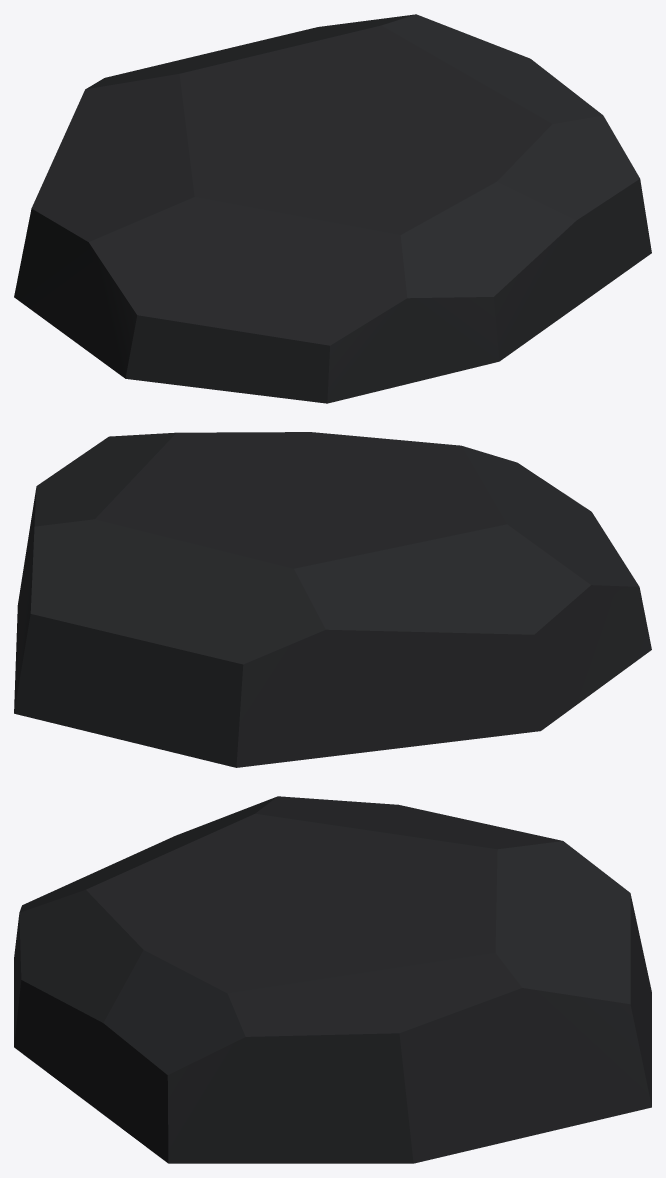
Rendered from Rock_4.fbx.
3 renders of one model, top to bottom at view 1: azimuth 30°, elevation 25°; view 2: azimuth 150°, elevation 25°; view 3: azimuth 270°, elevation 25°, orthographic. The views are drawn at different scales.
Parts seen in each view (by area): view 1: Rock_4; view 2: Rock_4; view 3: Rock_4.
Boxes of the visible parts, x1,y1,x2,y2 form: Rock_4: [14, 14, 651, 403]; Rock_4: [14, 432, 651, 767]; Rock_4: [14, 796, 651, 1163].
Size of the model in its own units: 21.08 by 5.49 by 21.04.
